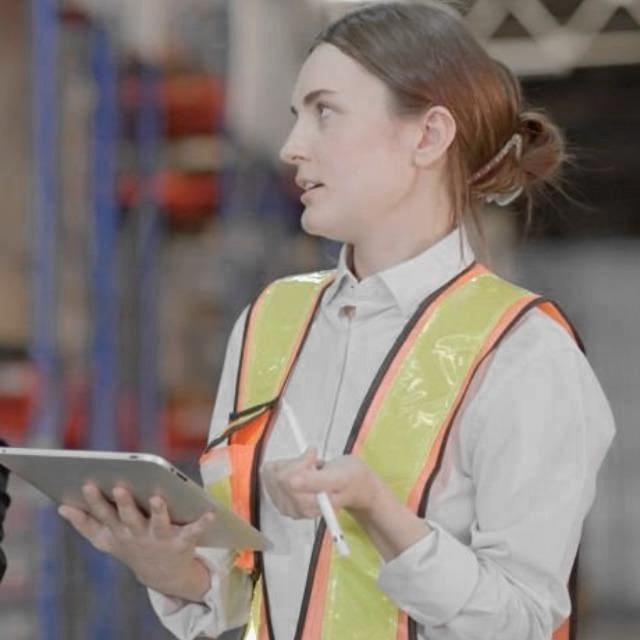Con_Chaleco: (219, 265, 586, 631)
Sin_Casco_Mascarrilla: (281, 2, 525, 243)
